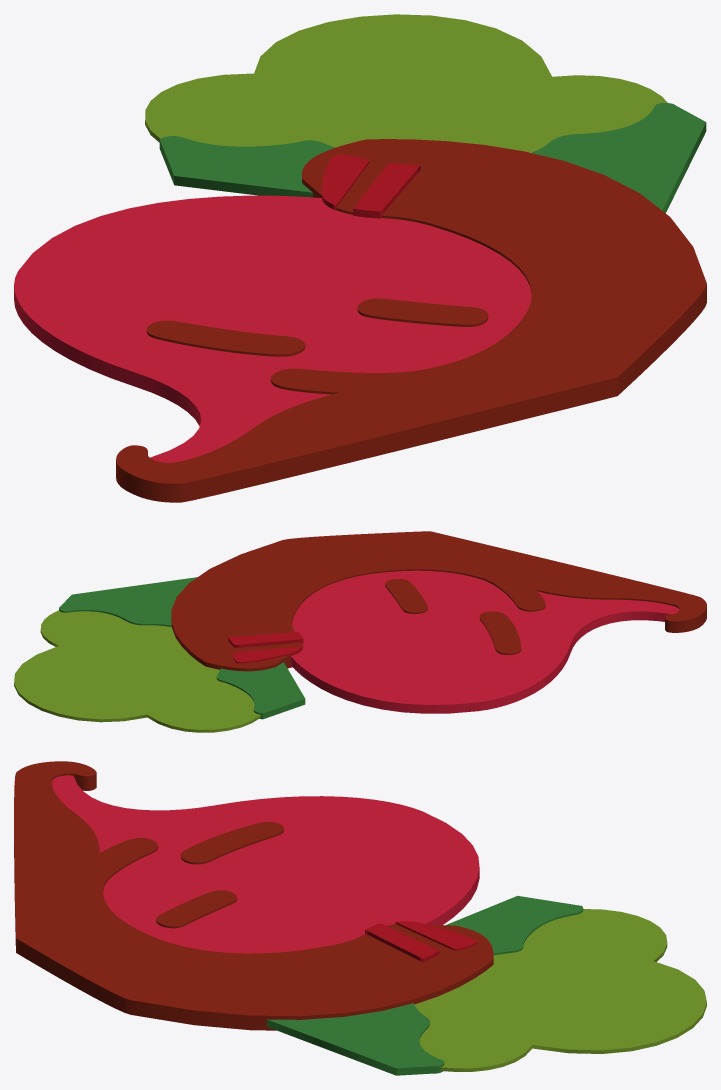
Rendered from emoji_u1fadc.glb.
3 views of the same model, one above another, from view 1: azimuth 30°, elevation 25°; view 2: azimuth 150°, elevation 25°; view 3: azimuth 270°, elevation 25° (orthographic). The views are drawn at different scales.
Visible parts, largest first — view 1: emoji_u1fadc; view 2: emoji_u1fadc; view 3: emoji_u1fadc.
Part boxes in pixels (<box>): emoji_u1fadc: <box>14,14,706,502</box>; emoji_u1fadc: <box>14,531,706,732</box>; emoji_u1fadc: <box>14,761,706,1075</box>.
Size of the model in its own units: 0.0354 by 0.0012 by 0.0342.
